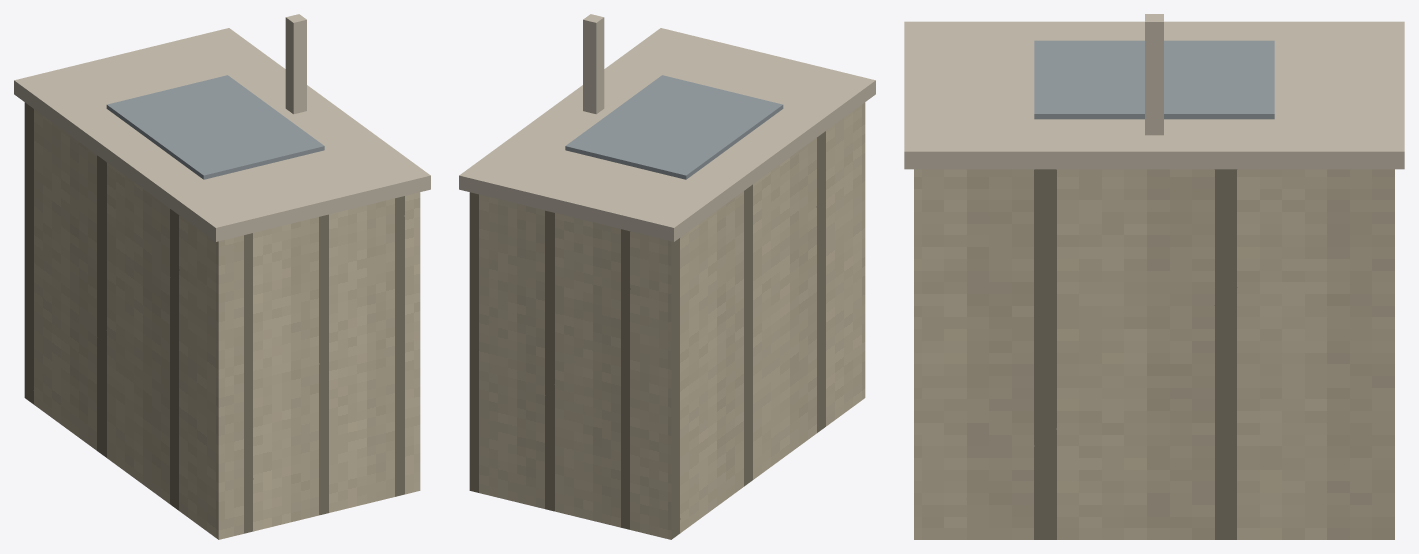
Rendered from art_sink.glb.
The picture shows the model from 3 angles, left to right: view 1: azimuth 30°, elevation 25°; view 2: azimuth 150°, elevation 25°; view 3: azimuth 270°, elevation 25°; orthographic projection. The views are drawn at different scales.
Parts seen in each view (by area): view 1: Box1, Box2, Box3, Box4; view 2: Box1, Box2, Box3, Box4; view 3: Box1, Box2, Box3, Box4.
Boxes of the visible parts, x1,y1,x2,y2 form: Box1: (24,102,420,539); Box2: (14,28,430,241); Box3: (106,75,324,179); Box4: (285,14,306,114); Box1: (469,102,865,539); Box2: (459,28,875,241); Box3: (565,75,783,179); Box4: (583,14,604,114); Box1: (914,169,1394,539); Box2: (904,21,1404,169); Box3: (1034,40,1274,119); Box4: (1145,14,1163,135).
Size of the model in its own units: 0.64 by 1.16 by 1.04.
Materials: 3 (1 with a texture image).
